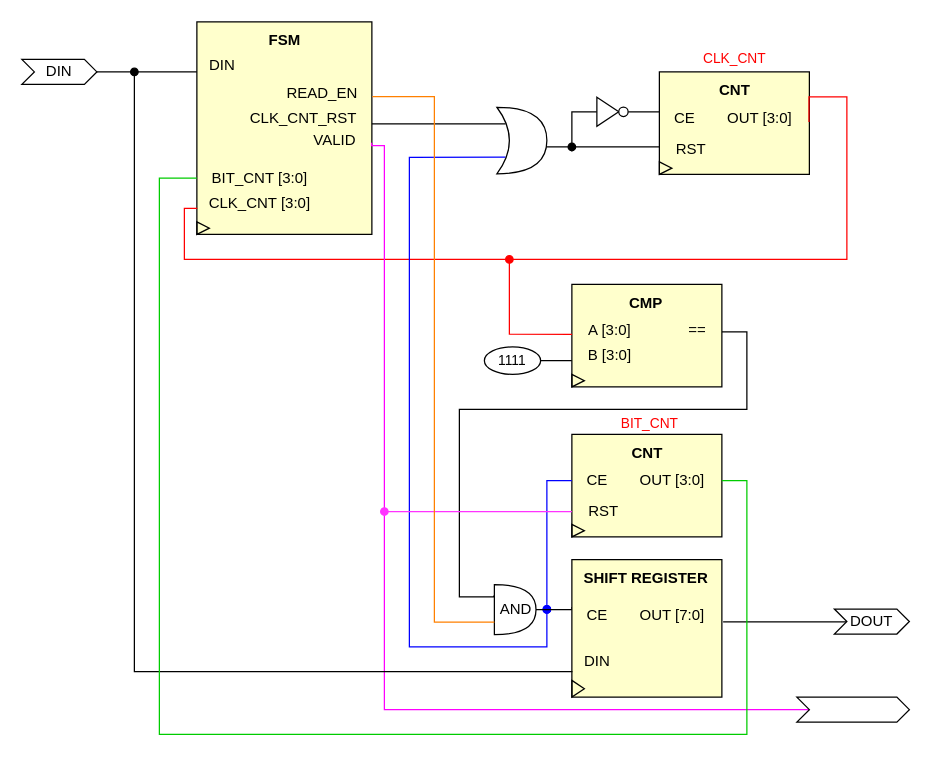
This 931x758 diagram has some shape labels left out. The centre of each missing label's shape, as x and y in pixels:
"DOUT_VLD" belongs at point 852,709.
"OR" belongs at point 521,140.
